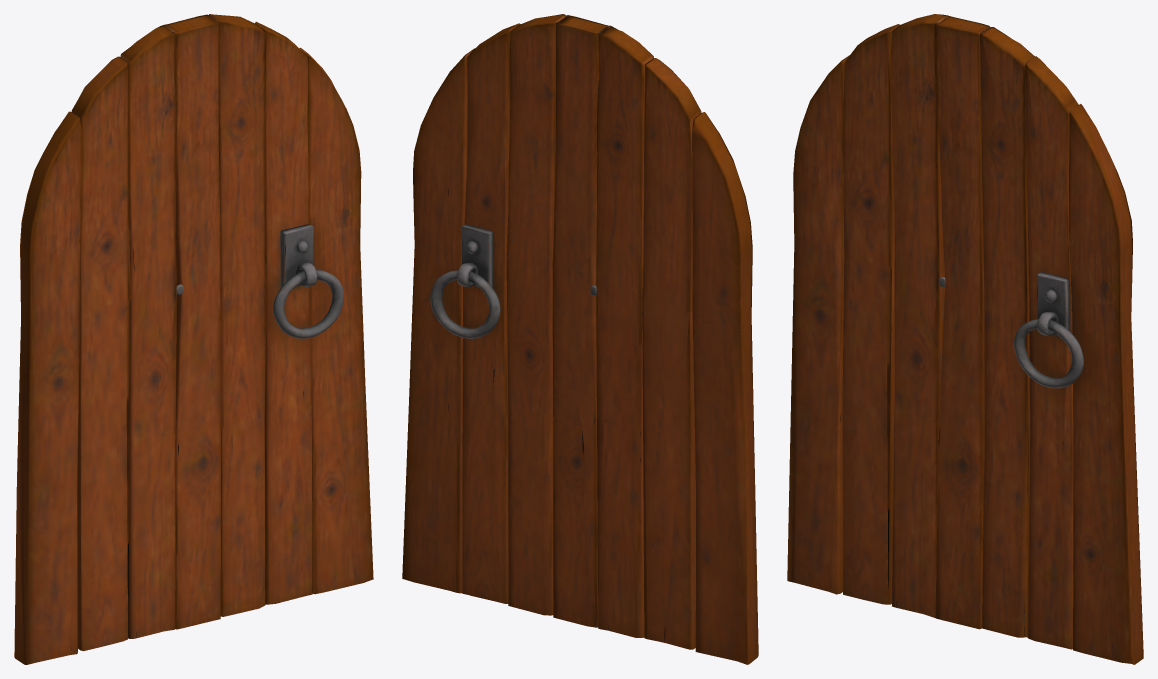
The model's file is puerta_torre_sumicio.glb.
The picture shows the model from 3 angles, left to right: view 1: azimuth 30°, elevation 25°; view 2: azimuth 150°, elevation 25°; view 3: azimuth 330°, elevation 25°; orthographic projection.
Visible parts, largest first — view 1: geometry_0; view 2: geometry_0; view 3: geometry_0.
Part boxes in pixels (x1,y1,x2,y2): geometry_0: [14, 14, 373, 664]; geometry_0: [402, 14, 758, 664]; geometry_0: [787, 14, 1143, 664].
Bounding box in the file's own units: 0.6124 × 1 × 0.1326.
Materials: 1 (1 with a texture image).
